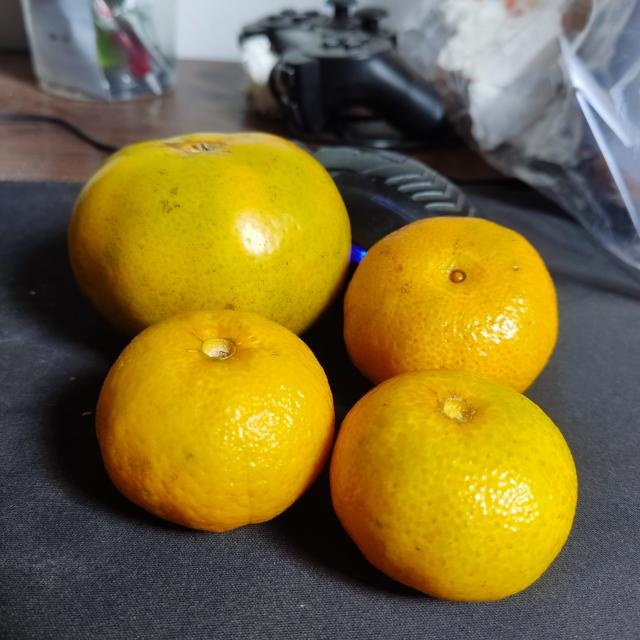agrume: (66, 130, 354, 340), (330, 371, 580, 606), (89, 311, 336, 537), (345, 216, 559, 387)
